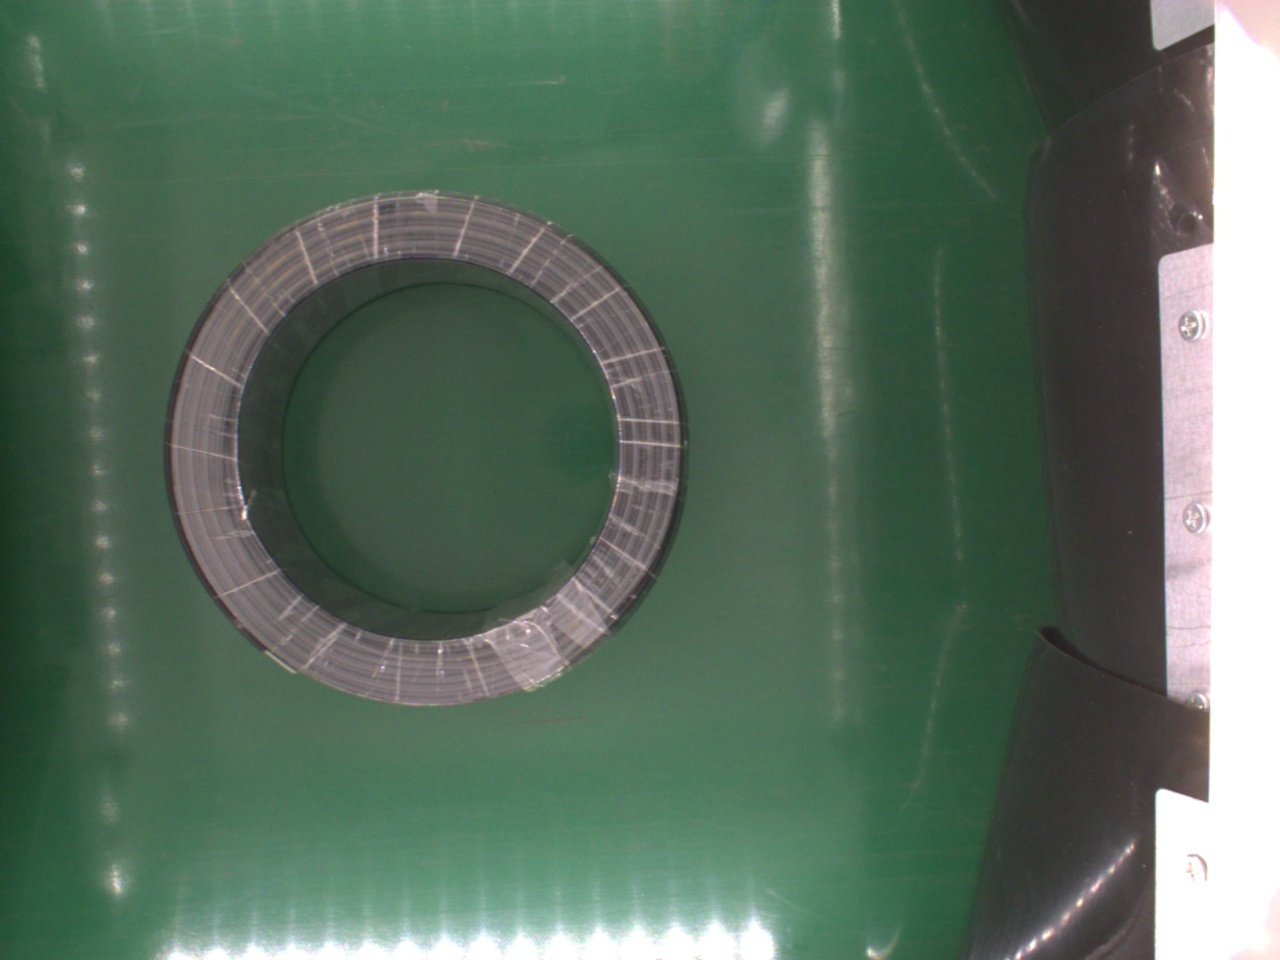black: (166, 190, 689, 715)
